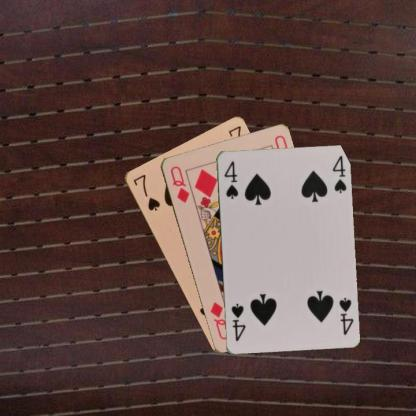4s: (336, 294, 355, 336), (221, 158, 239, 200)
7s: (130, 172, 161, 212)
Qd: (167, 163, 196, 205)
